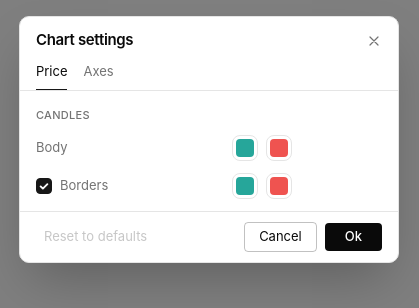
Test: ChartSettingsDialog › offers the timezone select on the Axes tab, defaulted to IST
What coordinates should you click on to do the following:
click the button "Axes"
I would click on:
 (99, 76)
Its box is [84,60,114,90].
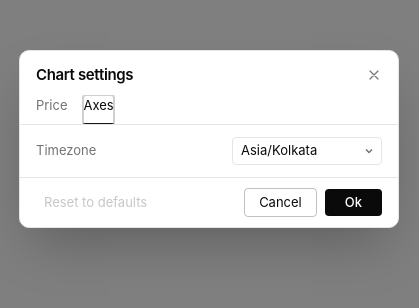
Result: the dropdown labelled "Timezone" shows "Asia/Kolkata" at [232,137,382,165]
